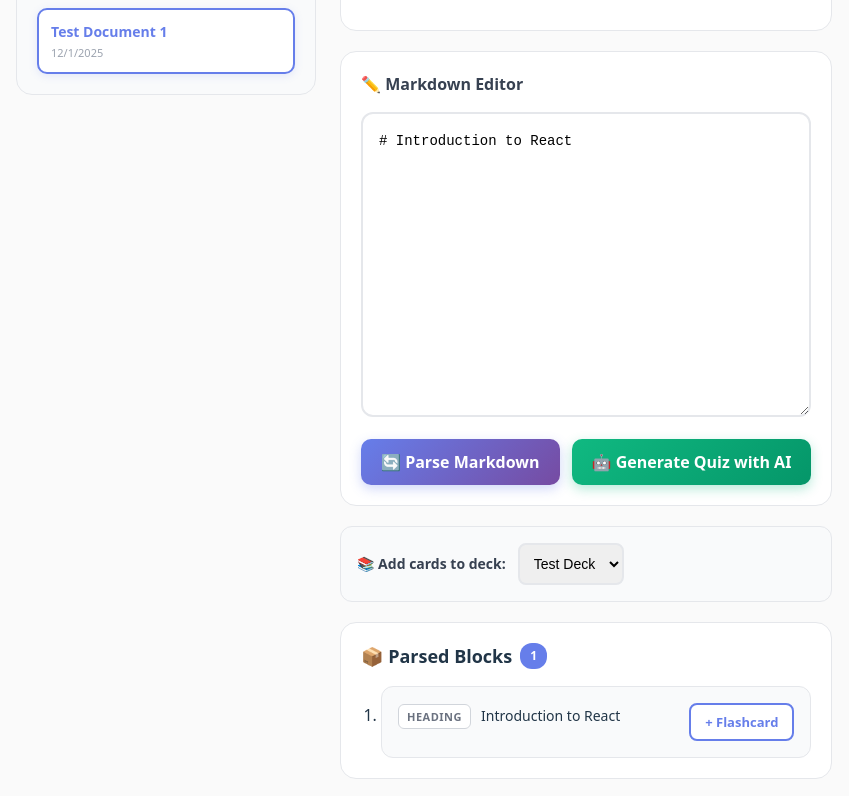
Scenario: Documents Page › opens card editor when clicking add flashcard
(page scrolled)
Expected: the text "Introduction to React" is shown, [481, 706, 620, 725]
Click the button "+ Flashcard" at (742, 722), box [689, 703, 794, 741]
(page scrolled)
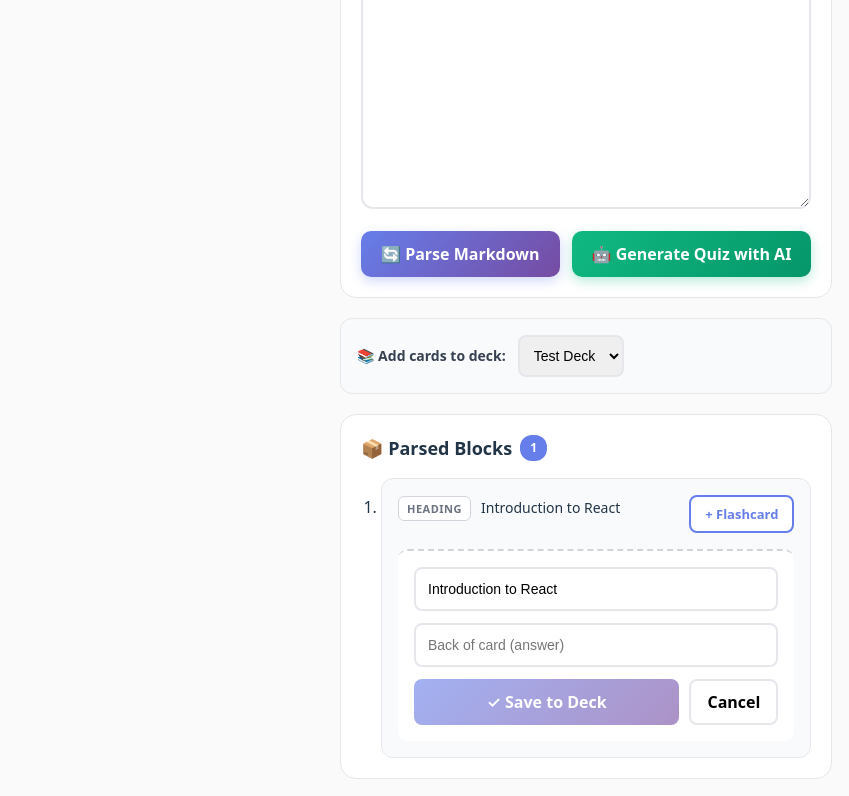
Expected: the field with placeholder "Front of card (question/prompt)" is shown, [414, 567, 778, 611]
Expected: the field with placeholder "Back of card (answer)" is shown, [414, 623, 778, 667]
